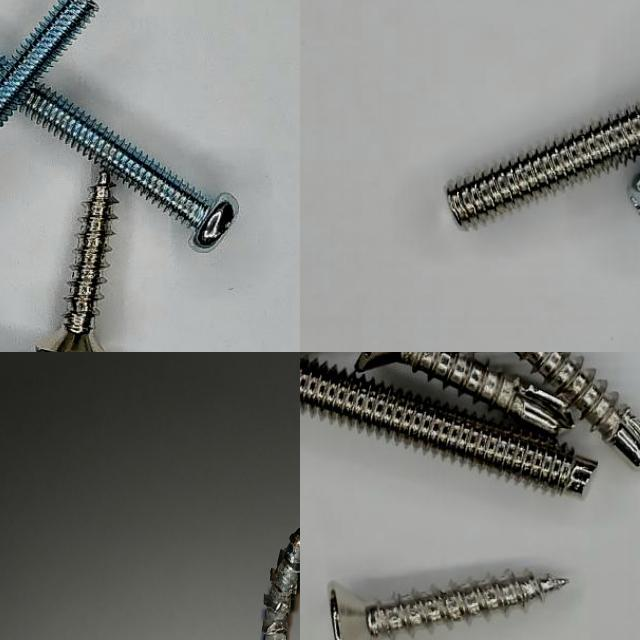Screw: (300, 356, 598, 495), (22, 83, 238, 249), (446, 106, 640, 227), (355, 352, 574, 435), (328, 574, 568, 640), (36, 170, 117, 352), (515, 352, 640, 467), (0, 0, 97, 128), (262, 527, 300, 640)
